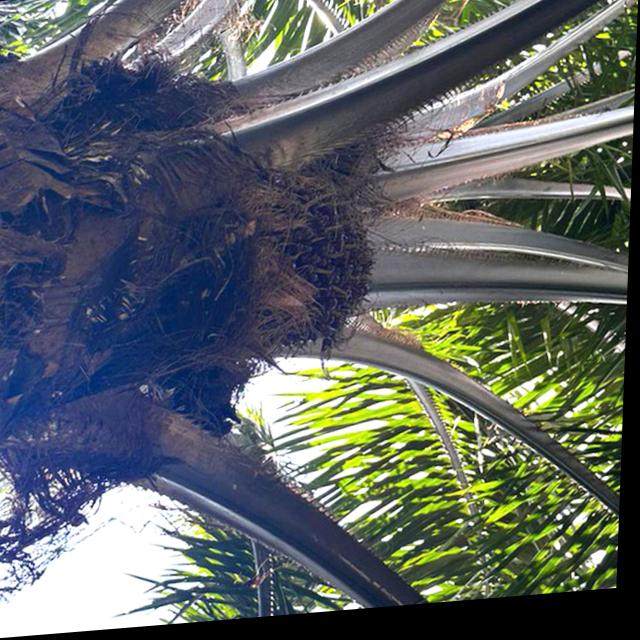almost: (221, 166, 390, 366)
